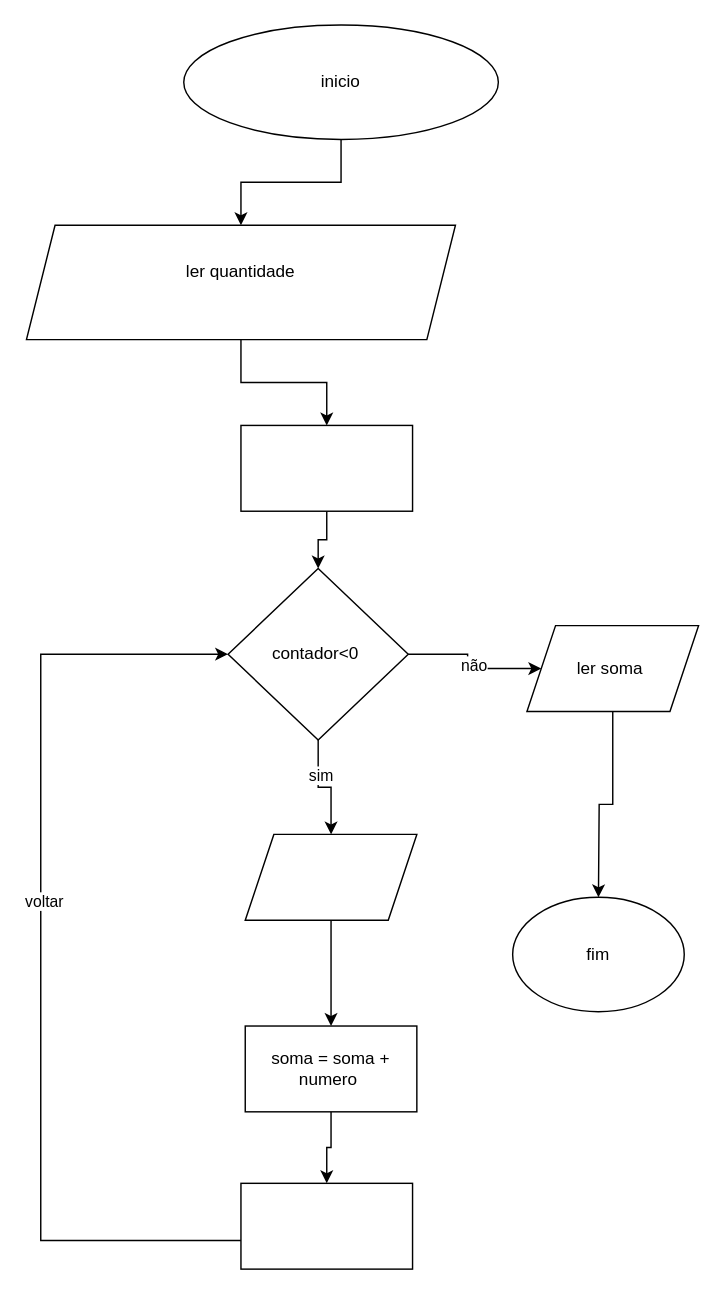
The diagram is 724 pixels wide and 1294 high, and some of its shapes have lost their labels. Each missing label, with the centre of its shape:
Contador = contador +1: (x=326, y=1225)
Ler numero: (x=330, y=876)
soma = 0: (x=326, y=467)
